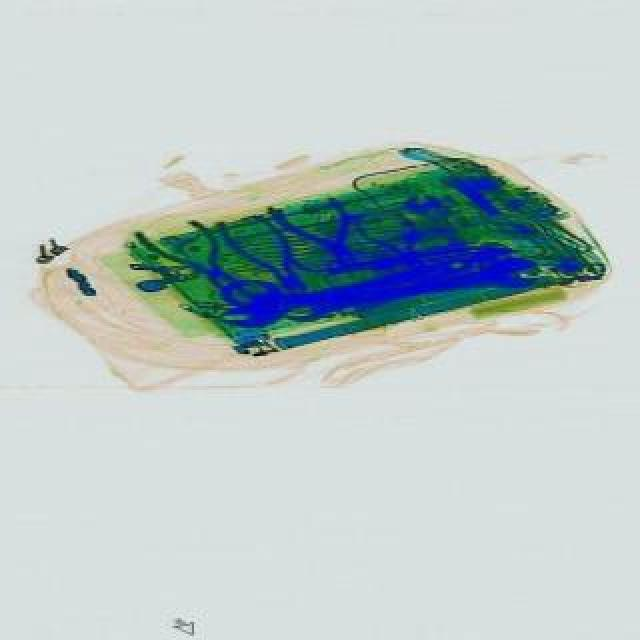scissors: (216, 244, 476, 340), (286, 256, 546, 330), (402, 186, 484, 270)
wrench: (140, 200, 264, 324), (222, 202, 328, 316), (276, 186, 382, 292), (356, 202, 444, 288)
